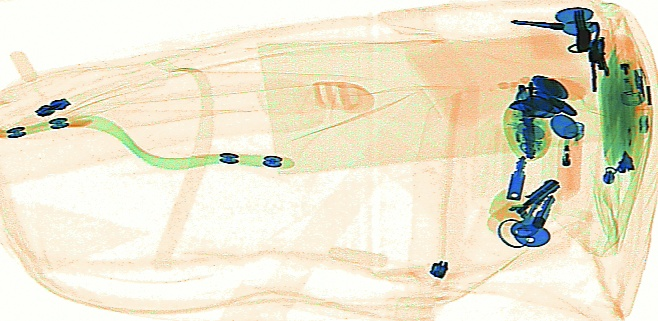lighter: (615, 31, 644, 106), (554, 116, 581, 195)
